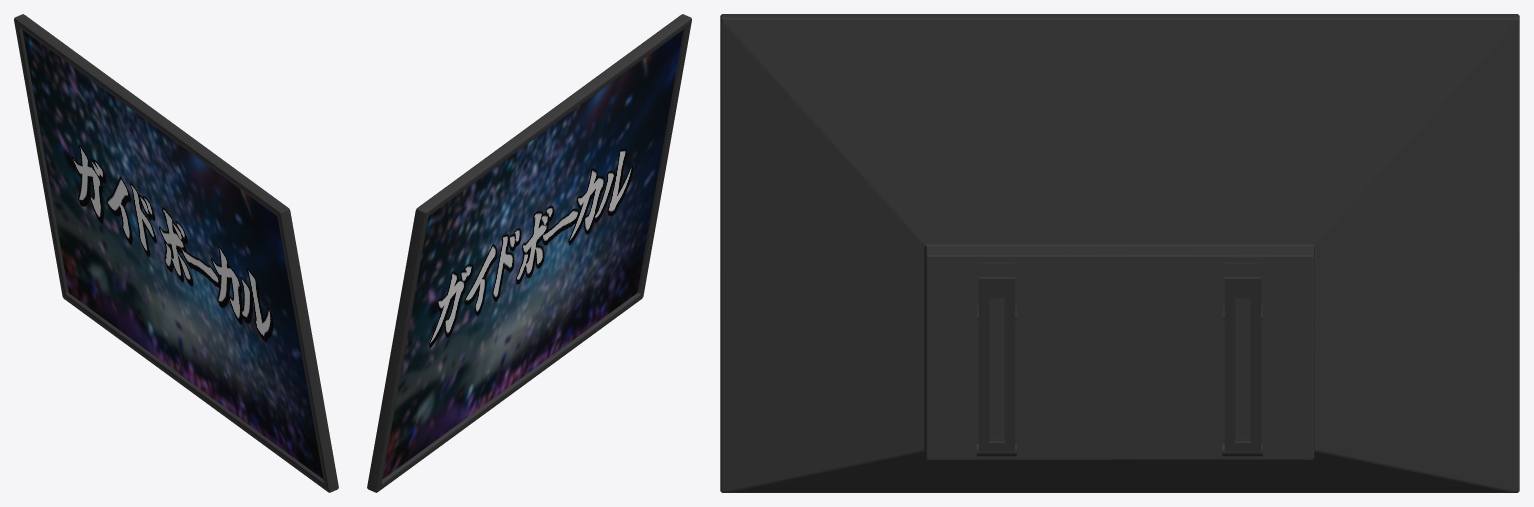
The model's file is SM_Monitor_01_Straight.fbx.
3 renders of one model, left to right at view 1: azimuth 30°, elevation 25°; view 2: azimuth 150°, elevation 25°; view 3: azimuth 270°, elevation 25°, orthographic. The views are drawn at different scales.
Parts seen in each view (by area): view 1: SM_Monitor_01_Straight_LOD0; view 2: SM_Monitor_01_Straight_LOD0; view 3: SM_Monitor_01_Straight_LOD0.
Boxes of the visible parts, left/top/right/bottom form: SM_Monitor_01_Straight_LOD0: left=14, top=14, right=338, bottom=492; SM_Monitor_01_Straight_LOD0: left=367, top=14, right=691, bottom=492; SM_Monitor_01_Straight_LOD0: left=720, top=14, right=1519, bottom=492.
Bounding box in the file's own units: 27.71 × 130 × 79.2.
